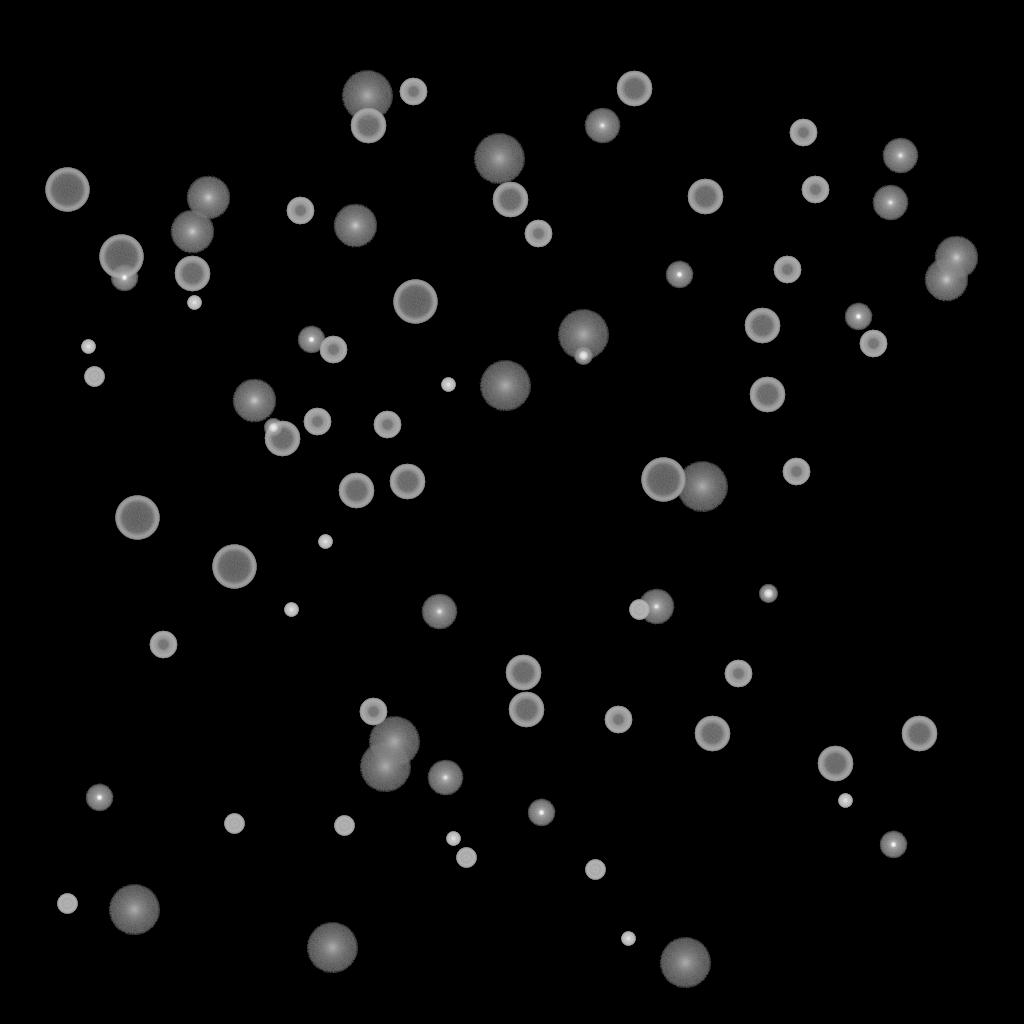depth:-10: (527, 799, 555, 827), (110, 264, 138, 292), (85, 784, 113, 812), (879, 831, 907, 859), (844, 303, 872, 331), (297, 326, 325, 354), (665, 261, 693, 289)
depth:-20: (574, 347, 592, 365), (264, 419, 282, 437), (759, 585, 777, 603)
depth:-30: (187, 296, 201, 310), (318, 535, 332, 549), (838, 794, 852, 808), (621, 932, 635, 946), (446, 832, 460, 846), (81, 340, 95, 354), (441, 378, 455, 392), (284, 603, 298, 617)
depth:-40: (585, 860, 605, 880), (57, 894, 77, 914), (84, 367, 104, 387), (456, 848, 476, 868), (224, 814, 244, 834), (334, 816, 354, 836), (629, 600, 649, 620)
depth:-50: (859, 330, 887, 358), (149, 631, 177, 659), (373, 411, 401, 439), (604, 706, 632, 734), (773, 256, 801, 284), (724, 660, 752, 688), (782, 458, 810, 486), (801, 176, 829, 204), (359, 698, 387, 726), (789, 119, 817, 147), (303, 408, 331, 436), (399, 78, 427, 106), (319, 336, 347, 364), (524, 220, 552, 248), (286, 197, 314, 225)
depth:-60: (508, 692, 544, 728), (338, 473, 374, 509), (744, 308, 780, 344), (817, 746, 853, 782), (492, 182, 528, 218), (350, 108, 386, 144), (505, 655, 541, 691), (389, 464, 425, 500), (749, 377, 785, 413), (174, 256, 210, 292), (687, 179, 723, 215), (901, 716, 937, 752), (694, 716, 730, 752), (616, 71, 652, 107), (264, 421, 300, 457)
depth:-70: (212, 545, 256, 589), (641, 458, 685, 502), (115, 496, 159, 540), (99, 235, 143, 279), (393, 280, 437, 324), (45, 168, 89, 212)
depth:0: (421, 594, 457, 630), (638, 589, 674, 625), (882, 138, 918, 174), (584, 108, 620, 144), (427, 760, 463, 796), (872, 185, 908, 221)
depth:10: (333, 204, 377, 248), (232, 379, 276, 423), (934, 236, 978, 280), (170, 210, 214, 254), (924, 258, 968, 302), (186, 176, 230, 220)
depth:20: (479, 361, 531, 411), (676, 462, 728, 512), (359, 742, 411, 792), (473, 134, 525, 184), (306, 923, 358, 973), (659, 938, 711, 988), (108, 885, 160, 935), (368, 717, 420, 767), (341, 71, 393, 121), (557, 310, 609, 360)
